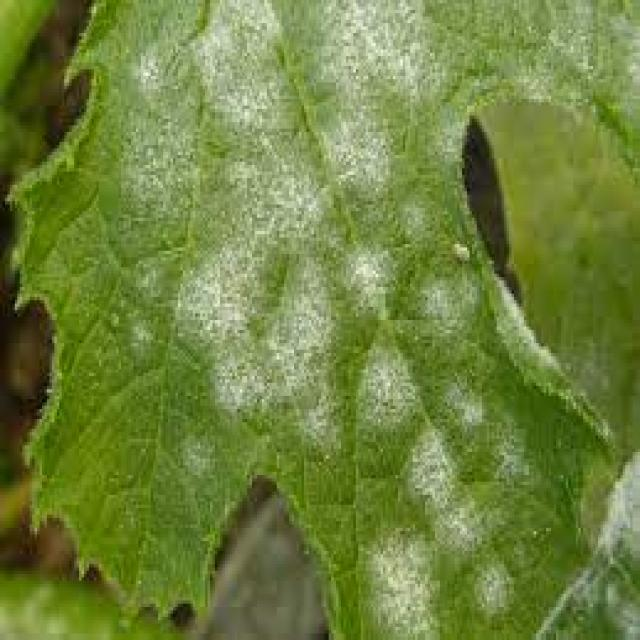powdery-mildew: (124, 27, 434, 414)
